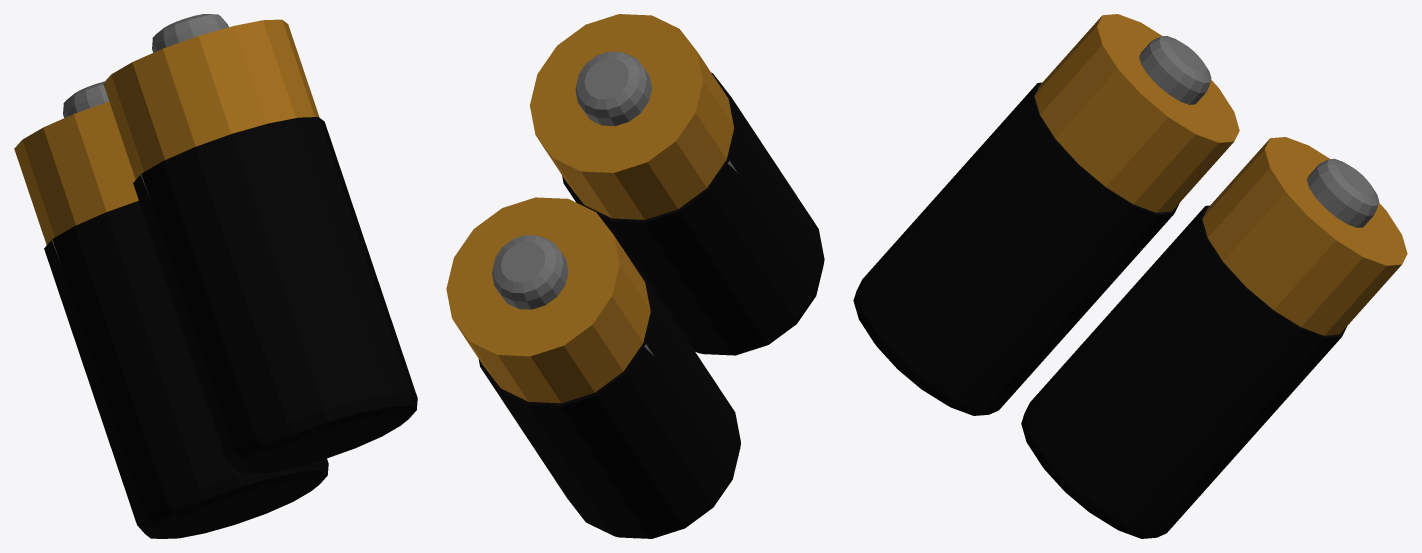
The model's file is Battery Prop.fbx_Battery.fbx.
The picture shows the model from 3 angles, left to right: view 1: azimuth 30°, elevation 25°; view 2: azimuth 150°, elevation 25°; view 3: azimuth 270°, elevation 25°; orthographic projection. The views are drawn at different scales.
Visible parts, largest first — view 1: Battery Base.001; view 2: Battery Base.001; view 3: Battery Base.001.
Boxes of the visible parts, <box> form: Battery Base.001: <box>14,14,417,538</box>; Battery Base.001: <box>446,14,824,538</box>; Battery Base.001: <box>853,14,1407,538</box>.
Bounding box in the file's own units: 64.03 × 186 × 186.
